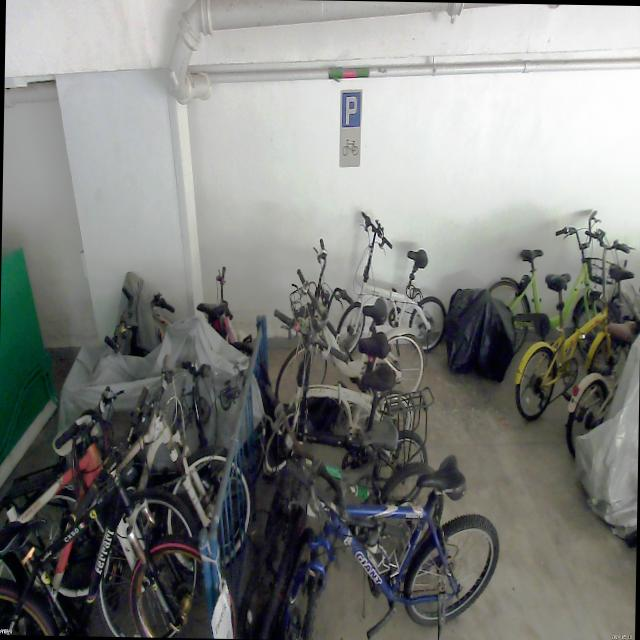bike: (0, 377, 241, 638), (26, 351, 252, 607), (0, 384, 202, 638), (251, 449, 500, 640), (263, 362, 428, 536), (274, 236, 426, 406), (264, 306, 416, 476), (514, 226, 640, 419), (484, 208, 627, 376), (336, 210, 448, 354)
